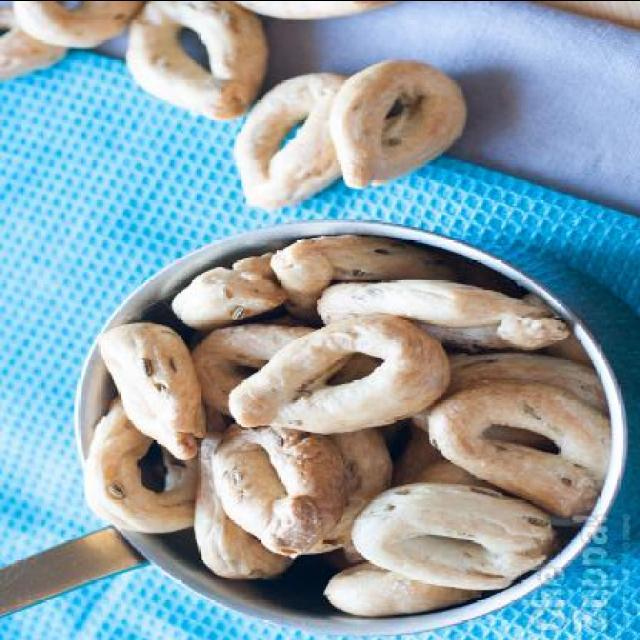Taralli: (94, 234, 598, 604), (108, 0, 474, 200)
